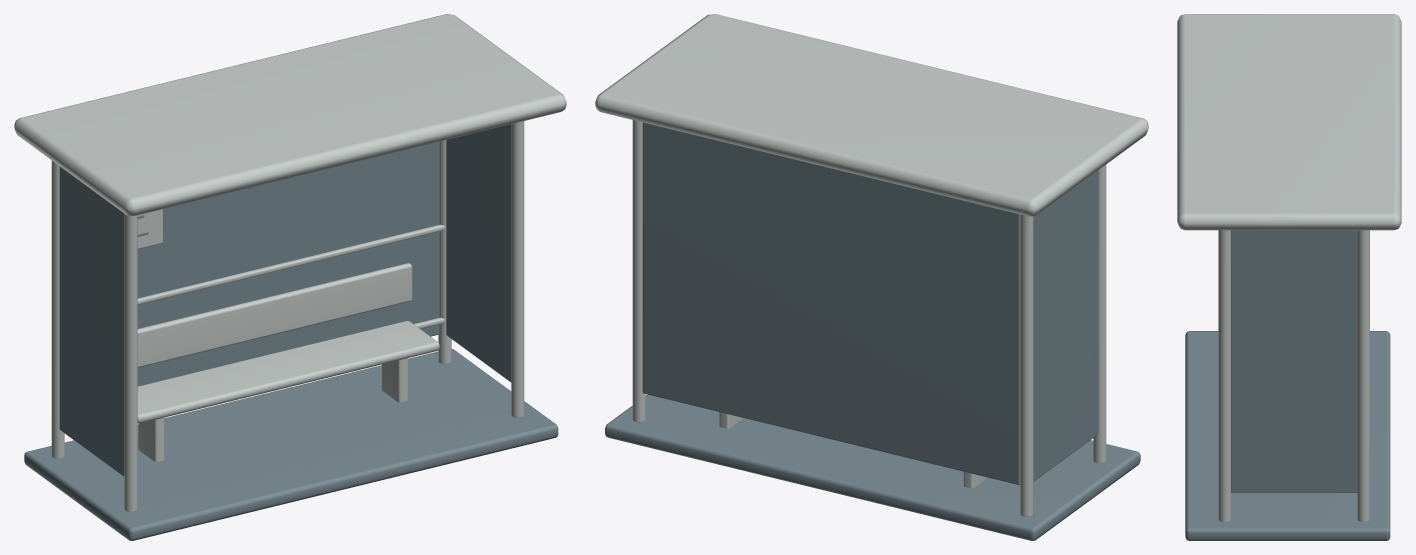
The model's file is bus-stop.glb.
3 views of the same model, side by side, from view 1: azimuth 30°, elevation 25°; view 2: azimuth 150°, elevation 25°; view 3: azimuth 270°, elevation 25° (orthographic). The views are drawn at different scales.
Parts seen in each view (by area): view 1: roof, base, rear_panel, side_panel, side_panel.001, bench_seat, bench_back, post.001, post.003, post, rear_rail_1.0, post.002 (+3 smaller); view 2: rear_panel, roof, base, side_panel, post, post.002, post.001; view 3: roof, side_panel.001, base, post.003, post.002.
Boxes of the visible parts, bbox=[...] form: roof: bbox=[14, 14, 566, 215]; base: bbox=[24, 349, 558, 540]; rear_panel: bbox=[137, 141, 439, 386]; side_panel: bbox=[59, 166, 124, 476]; side_panel.001: bbox=[446, 124, 511, 382]; bench_seat: bbox=[137, 321, 439, 423]; bench_back: bbox=[137, 263, 412, 367]; post.001: bbox=[124, 214, 137, 511]; post.003: bbox=[511, 121, 524, 417]; post: bbox=[51, 160, 64, 458]; rear_rail_1.0: bbox=[137, 224, 445, 304]; post.002: bbox=[438, 140, 451, 364]; rear_panel: bbox=[642, 122, 1020, 484]; roof: bbox=[595, 14, 1148, 216]; base: bbox=[605, 394, 1140, 540]; side_panel: bbox=[1033, 170, 1098, 481]; post: bbox=[1020, 214, 1033, 516]; post.002: bbox=[632, 120, 645, 422]; post.001: bbox=[1093, 165, 1106, 463]; roof: bbox=[1177, 14, 1401, 230]; side_panel.001: bbox=[1231, 230, 1357, 492]; base: bbox=[1185, 331, 1390, 540]; post.003: bbox=[1218, 230, 1230, 521]; post.002: bbox=[1357, 230, 1369, 521].
Size of the model in its own units: 3.08 by 2.3 by 1.42.
